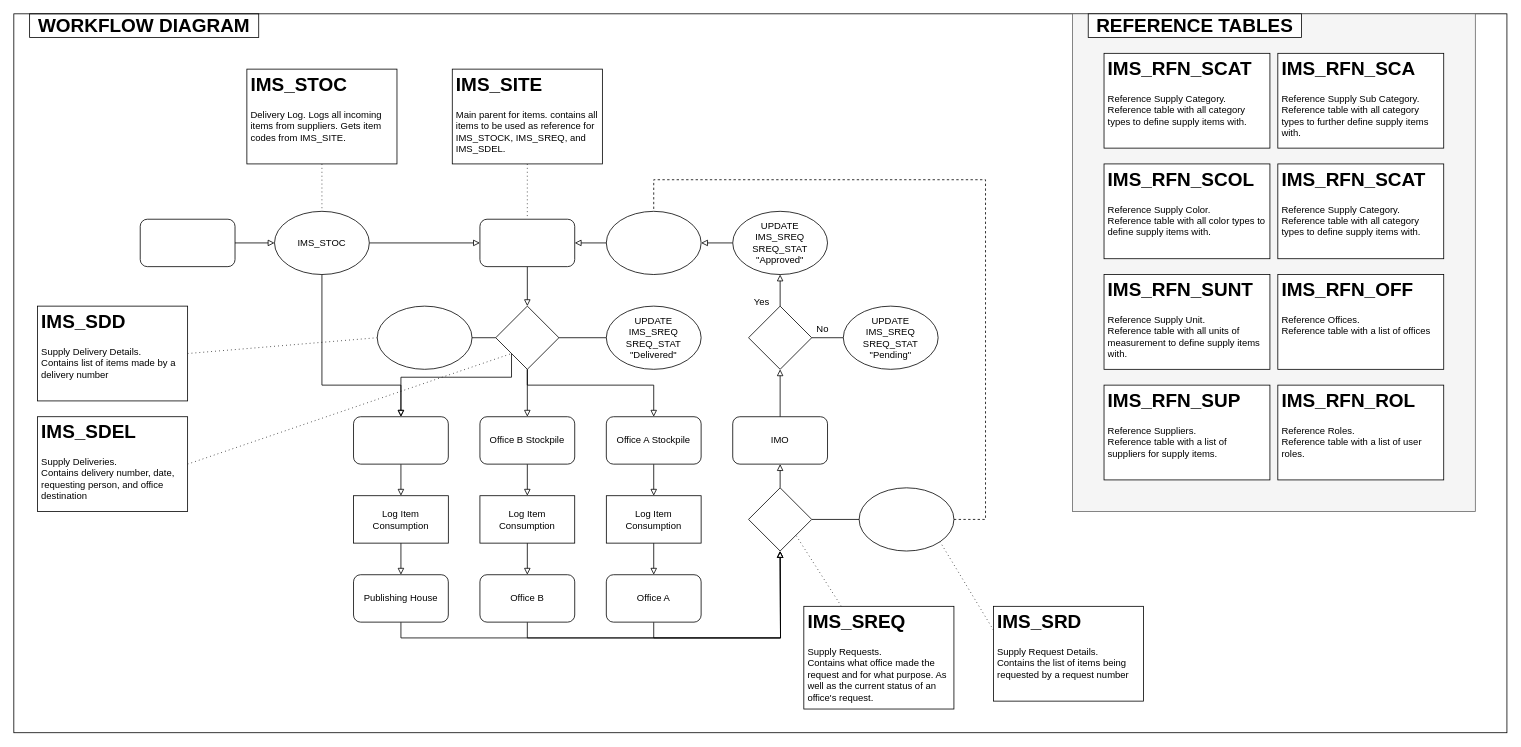
This 1521x747 diagram has some shape labels left out. The centre of each missing label's shape, as x and y in pixels:
"Approve?" goes at point (780, 337).
"Deliveries" goes at point (187, 242).
"IMS_SDD" goes at point (424, 337).
"IMS_SDEL" goes at point (527, 337).
"IMS_SITE" goes at point (527, 242).
"IMS_SRD" goes at point (906, 519).
"IMS_SREQ" goes at point (780, 519).
"Publishing House Stockpile" goes at point (400, 440).
"UPDATE IMS_SITE with IMS_SRD" goes at point (653, 243).
